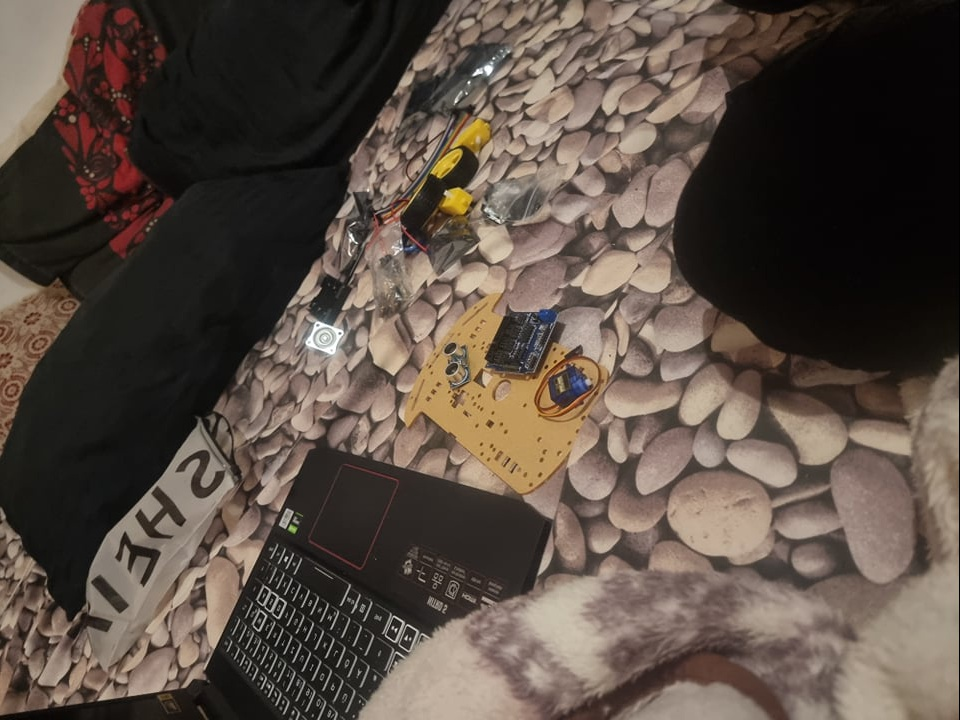5V EXPANSION: (485, 303, 558, 380)
BATTERY BOX: (313, 271, 346, 325)
SENSOR: (442, 339, 469, 392)
